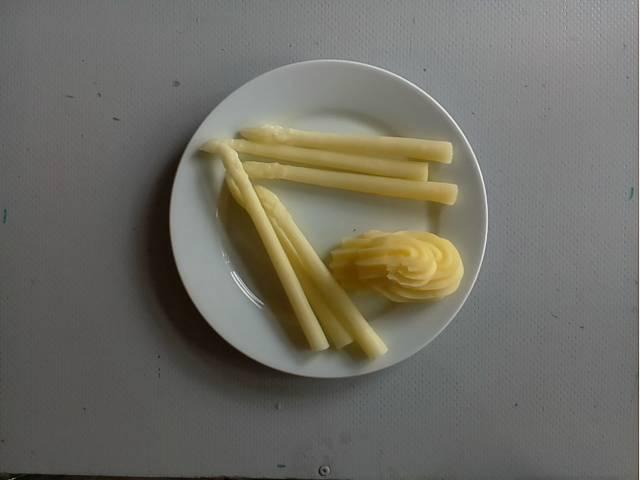Asparagus + mashed potatoes: (200, 120, 463, 360)
